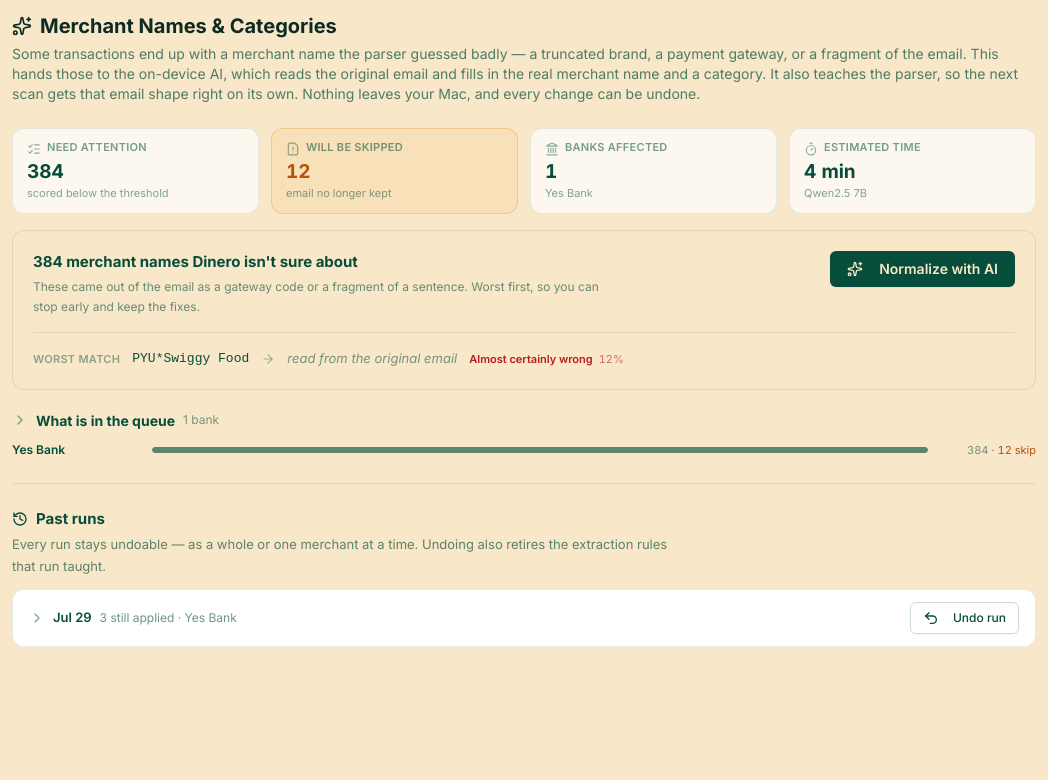
Test case: MerchantCleanupSettings, idle › run history › reveals the individual changes when expanded
Expected: the heading "384 merchant names Dinero isn't sure about" is shown, [33, 252, 358, 271]
Click the button "Jul 29 3 still applied · Yes Bank".
click(72, 617)  # box [29, 608, 898, 627]
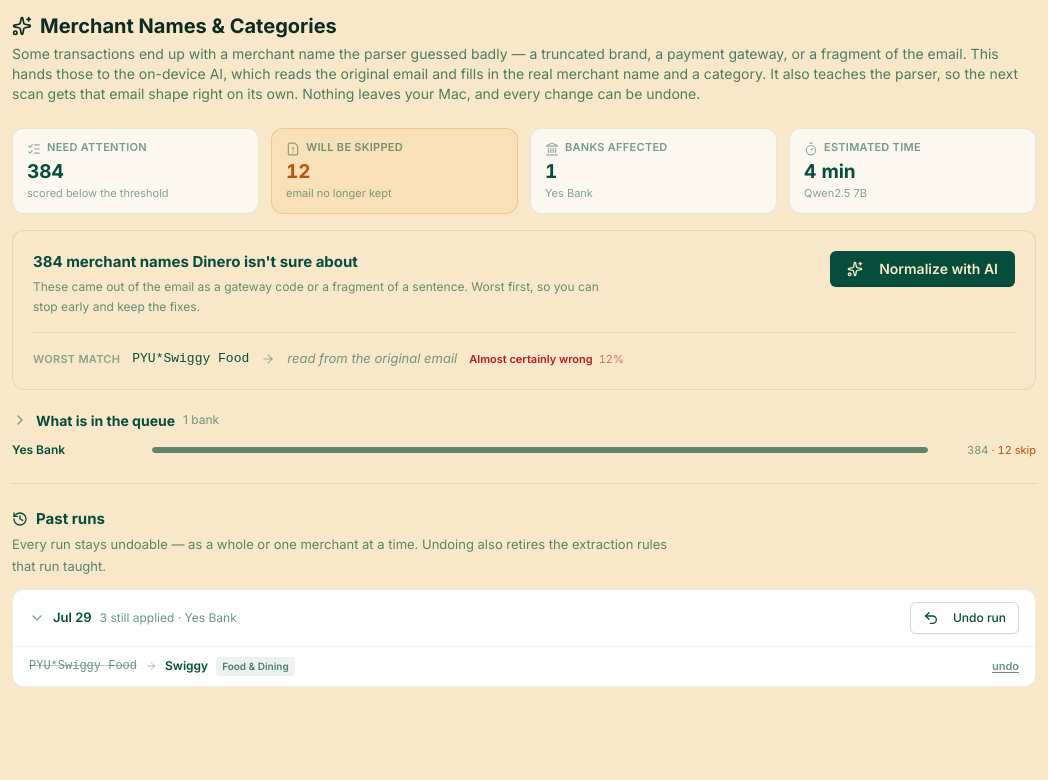
Now the text "Swiggy" is shown, box [165, 657, 208, 675]
